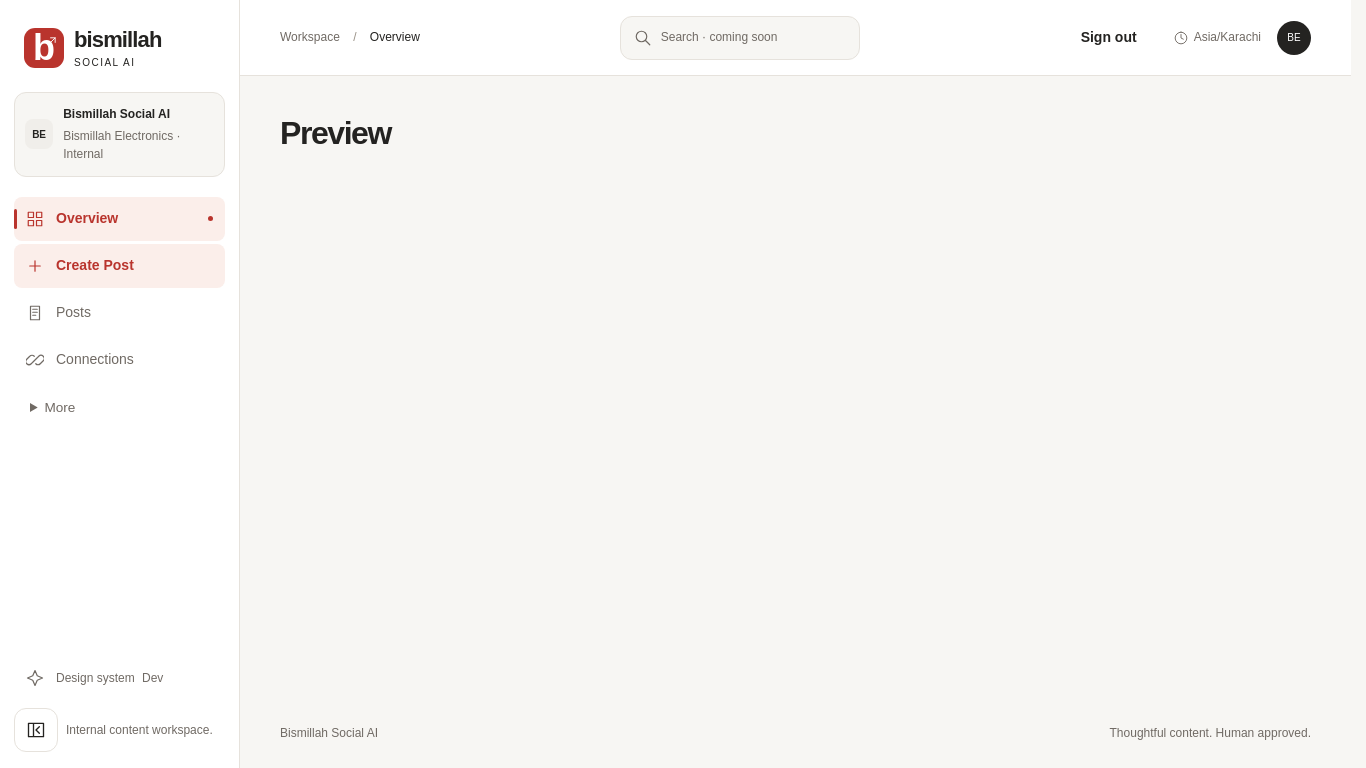
workspace shell and presentation pages › collapses the desktop sidebar without losing link accessible names
Click the button named "Collapse sidebar". click: (36, 730)
box: [14, 708, 58, 752]
(page scrolled)
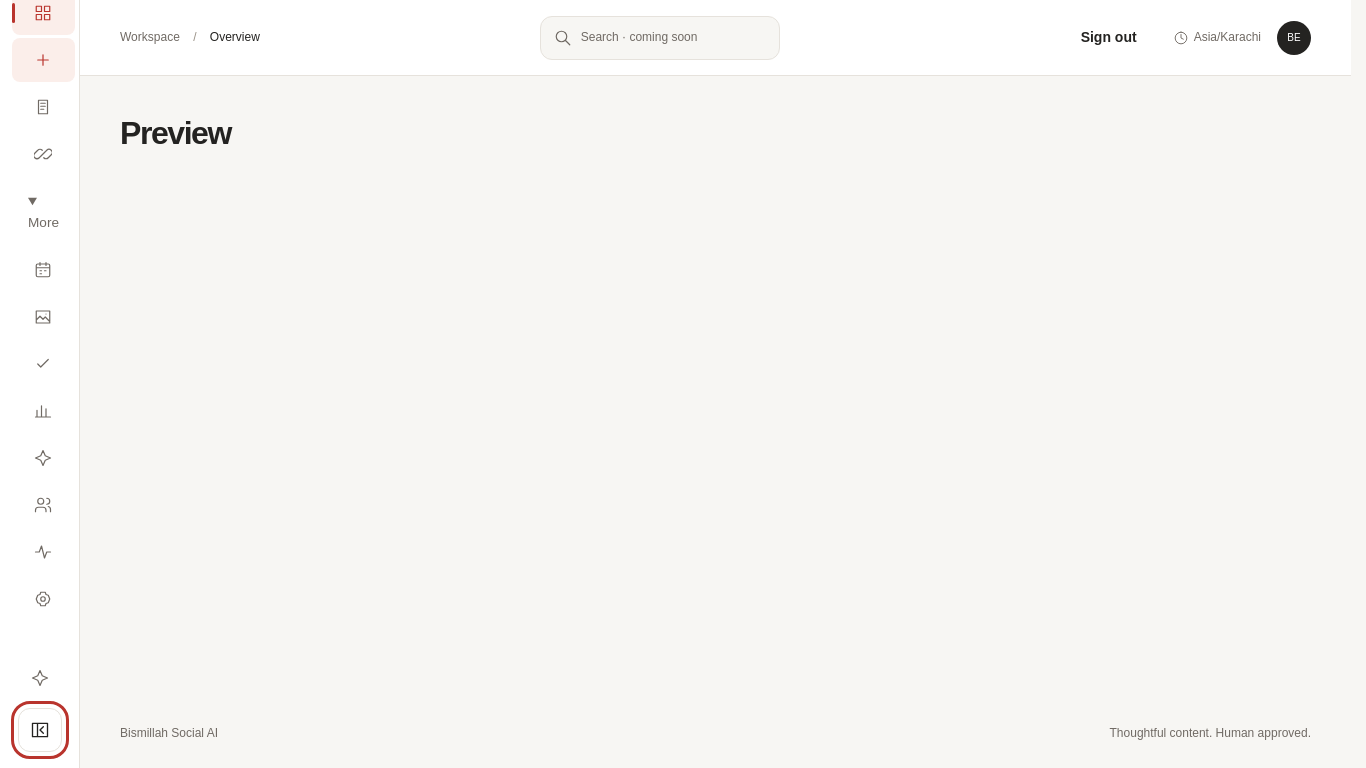
Result: the button named "Expand sidebar" is collapsed
Click the button named "Expand sidebar". click: (40, 730)
box: [18, 708, 62, 752]
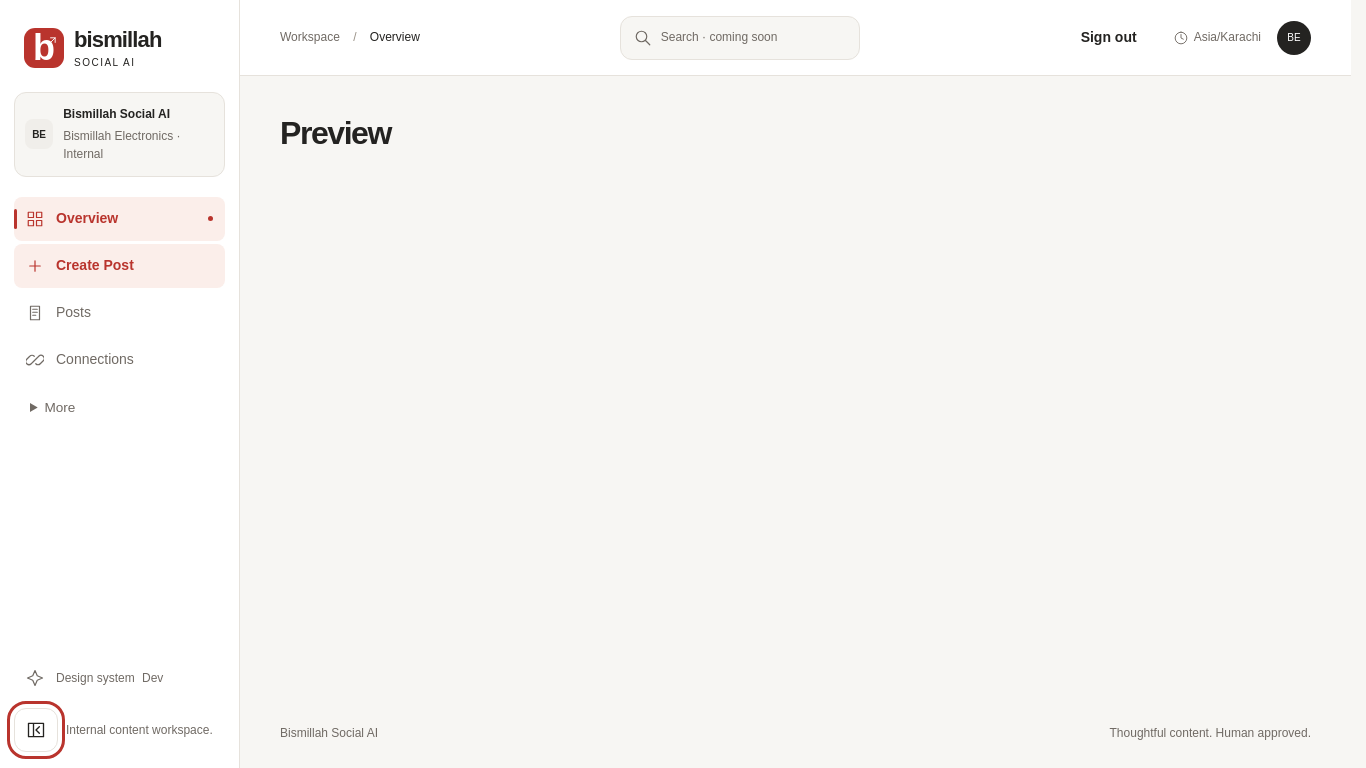
Result: the button named "Collapse sidebar" is expanded at [14, 708, 58, 752]
